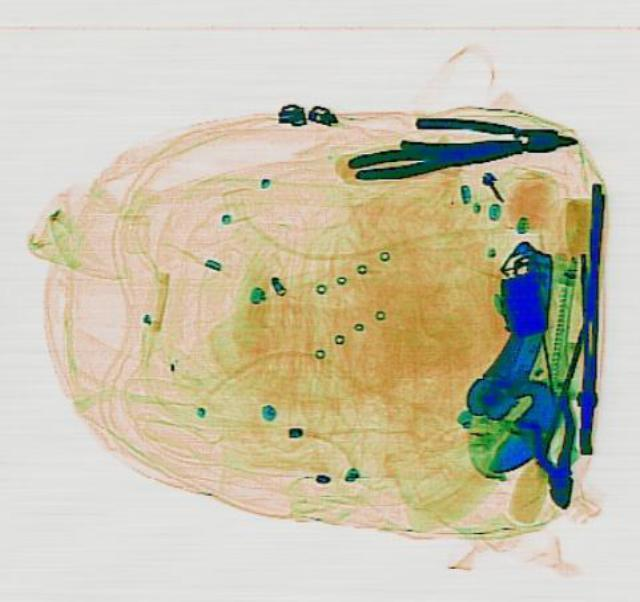Pliers: (344, 126, 524, 185), (508, 392, 594, 511)
